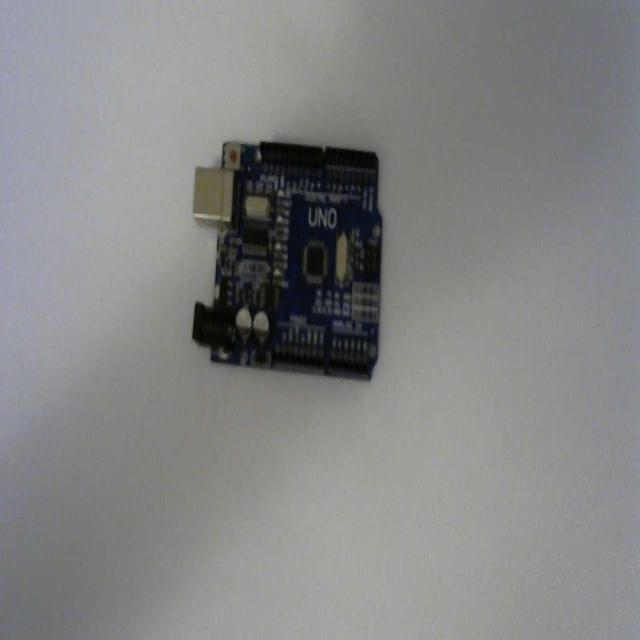arduino: (192, 134, 384, 386)
